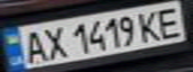1: (66, 20, 90, 54), (103, 15, 124, 48)
4: (87, 17, 109, 52)
9: (115, 12, 142, 46)
A: (18, 27, 51, 64)
E: (151, 5, 190, 39)
K: (133, 8, 166, 43)
X: (39, 24, 69, 61)
